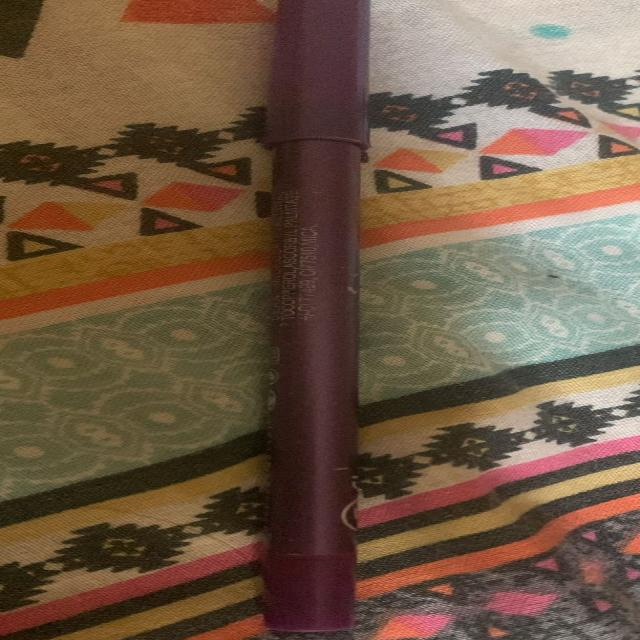eye liner: (255, 5, 377, 640)
